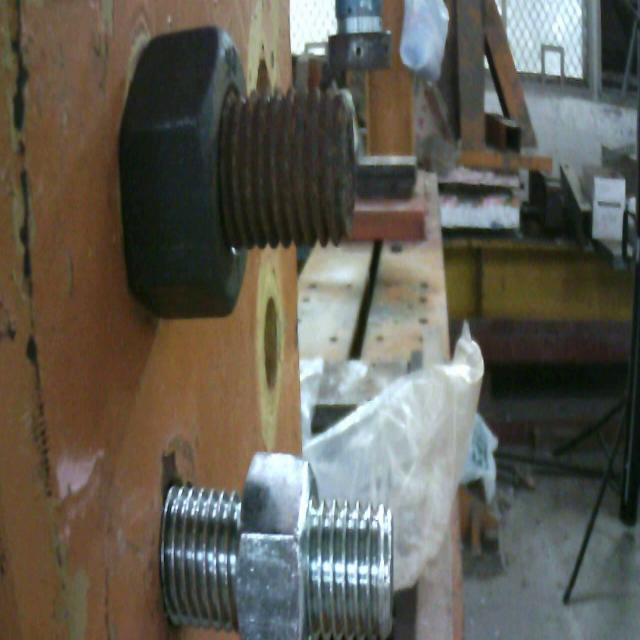Missing bolt: (264, 295, 284, 390), (257, 53, 270, 95)
Regular bolt: (173, 455, 392, 640)
Rusty bolt: (119, 31, 358, 311)
